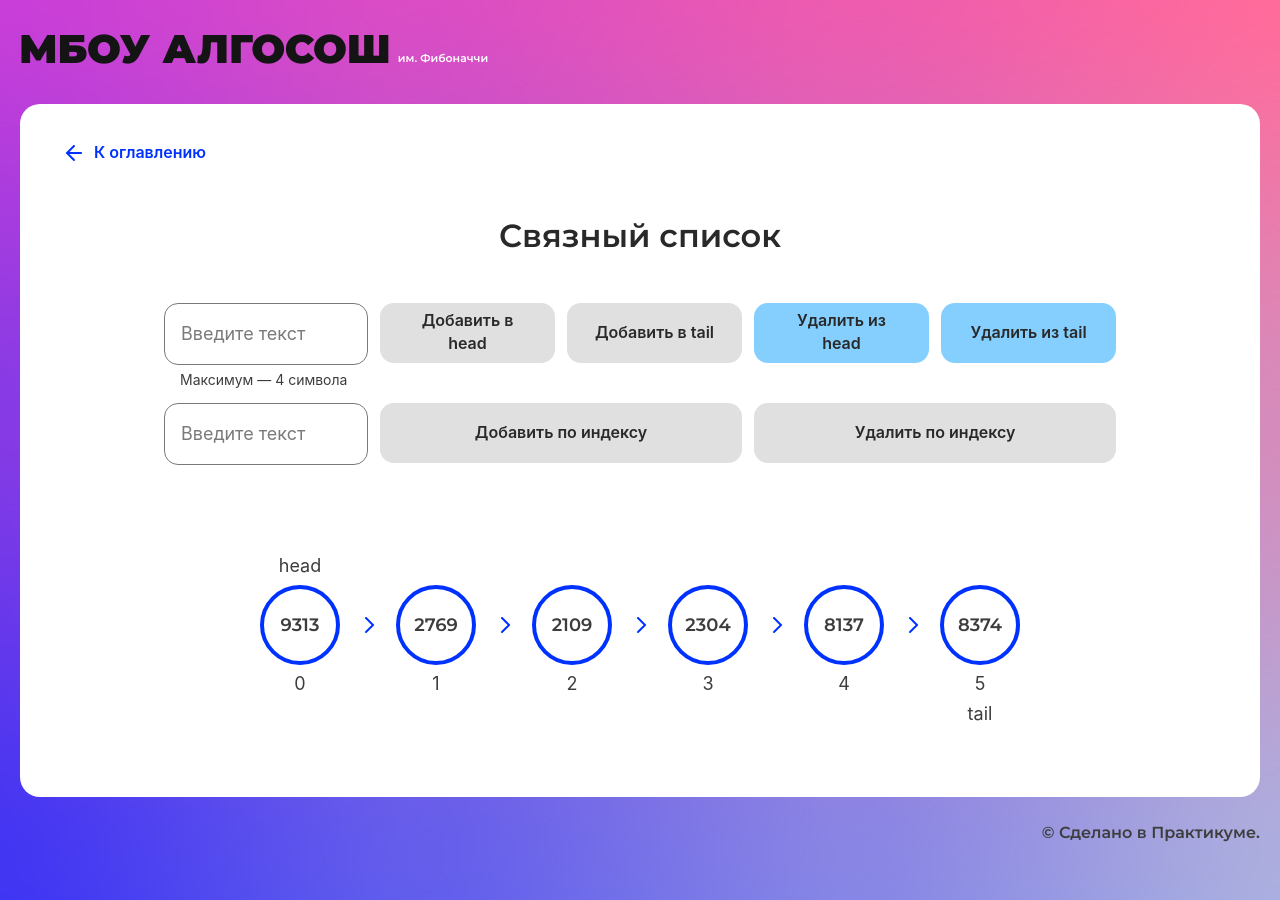
Scenario: Testing string reversal algorithm page › Correct animation of adding to the head of the list
The image size is (1280, 900).
Expected: the element with test id "input-value" is enabled
Type "hi" into the field with test id "input-value" at (266, 334), box top-left (164, 303), bottom-right (368, 365)
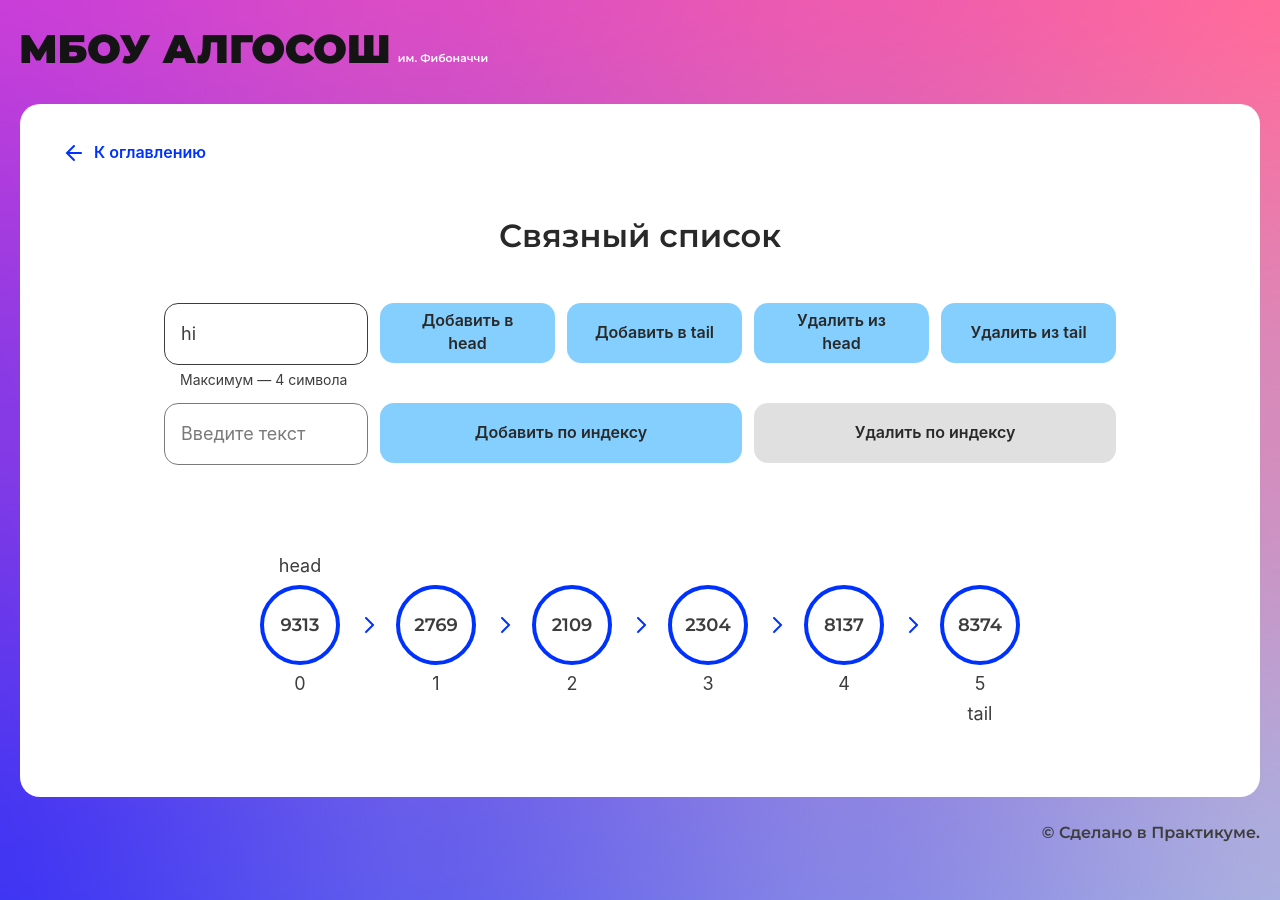
Click the button with test id "button-add-head" at (468, 333), box top-left (380, 303), bottom-right (555, 363)
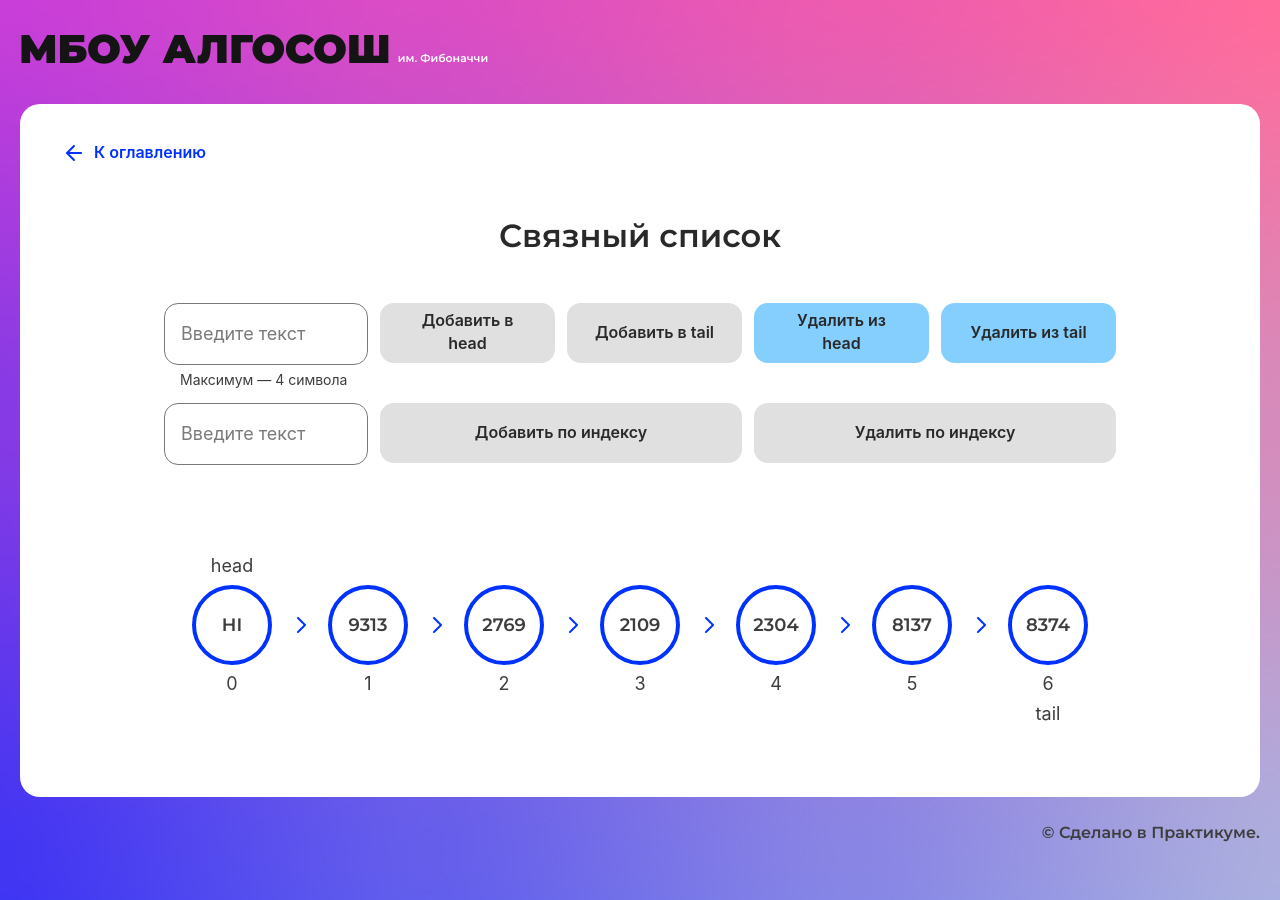
Expected: the element showing "hi" is shown, top-left (192, 584), bottom-right (272, 664)
